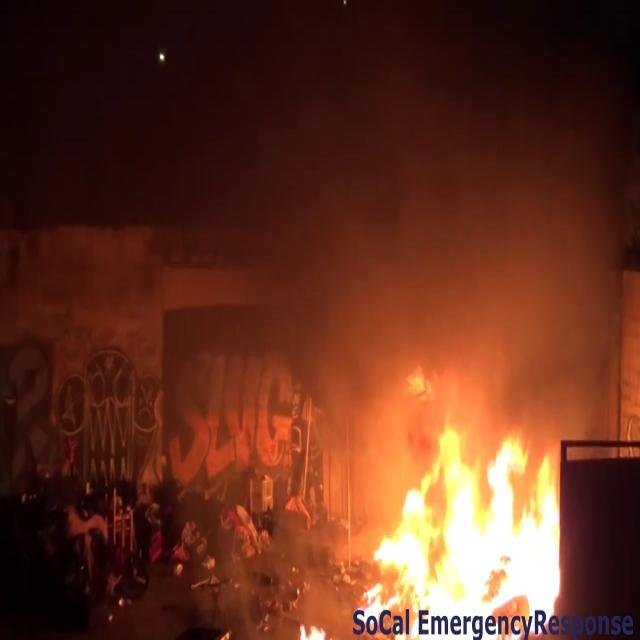Fire: (352, 392, 568, 634)
Smoke: (229, 0, 630, 409)
